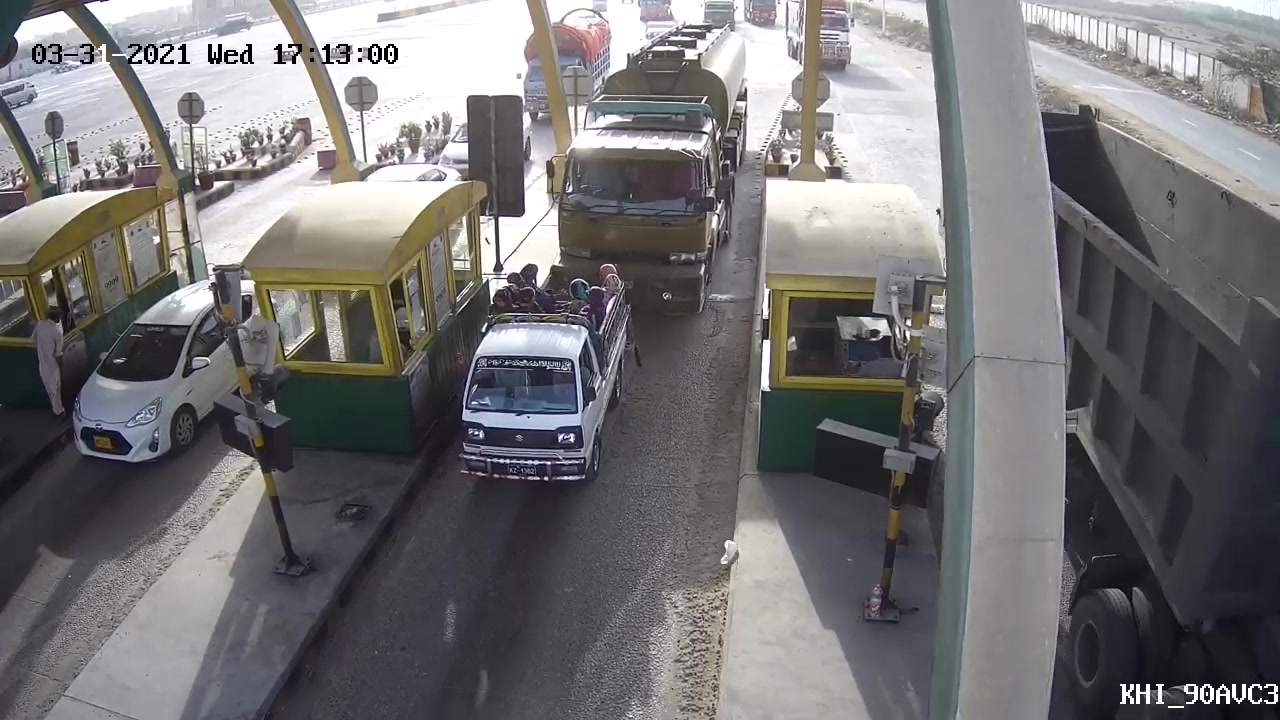F1: (429, 262, 646, 502)
F6: (550, 16, 753, 313)
